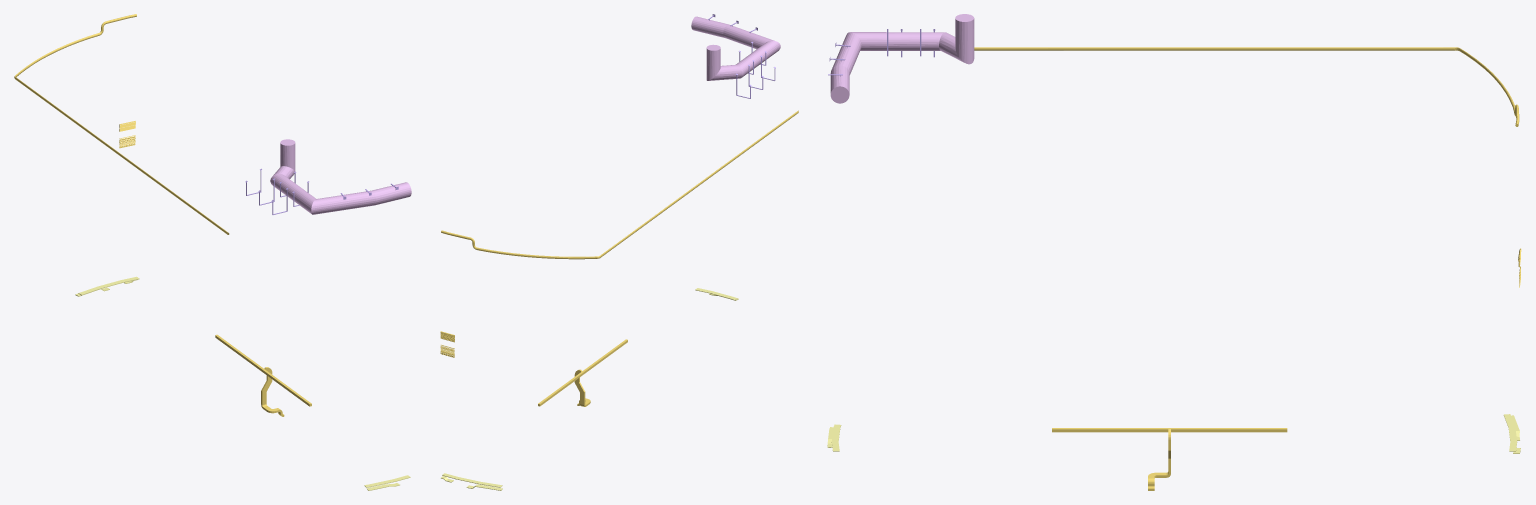
The model's file is HS-US15-Serv-cut2.glb.
3 views of the same model, side by side, from view 1: azimuth 30°, elevation 25°; view 2: azimuth 150°, elevation 25°; view 3: azimuth 270°, elevation 25° (orthographic). The views are drawn at different scales.
Parts seen in each view (by area): view 1: Vent, Pipe, Cable, Constract; view 2: Vent, Pipe, Cable, Constract; view 3: Vent, Pipe.
Part boxes in pixels (<box>): Vent: <box>270,139,411,214</box>; Pipe: <box>14,14,311,416</box>; Cable: <box>75,276,410,490</box>; Constract: <box>245,168,398,214</box>; Vent: <box>691,16,780,80</box>; Pipe: <box>440,110,798,406</box>; Cable: <box>441,288,738,490</box>; Constract: <box>708,14,775,98</box>; Vent: <box>830,14,974,103</box>; Pipe: <box>974,47,1521,490</box>.
Size of the model in its own units: 16.05 by 36.29 by 53.04.
